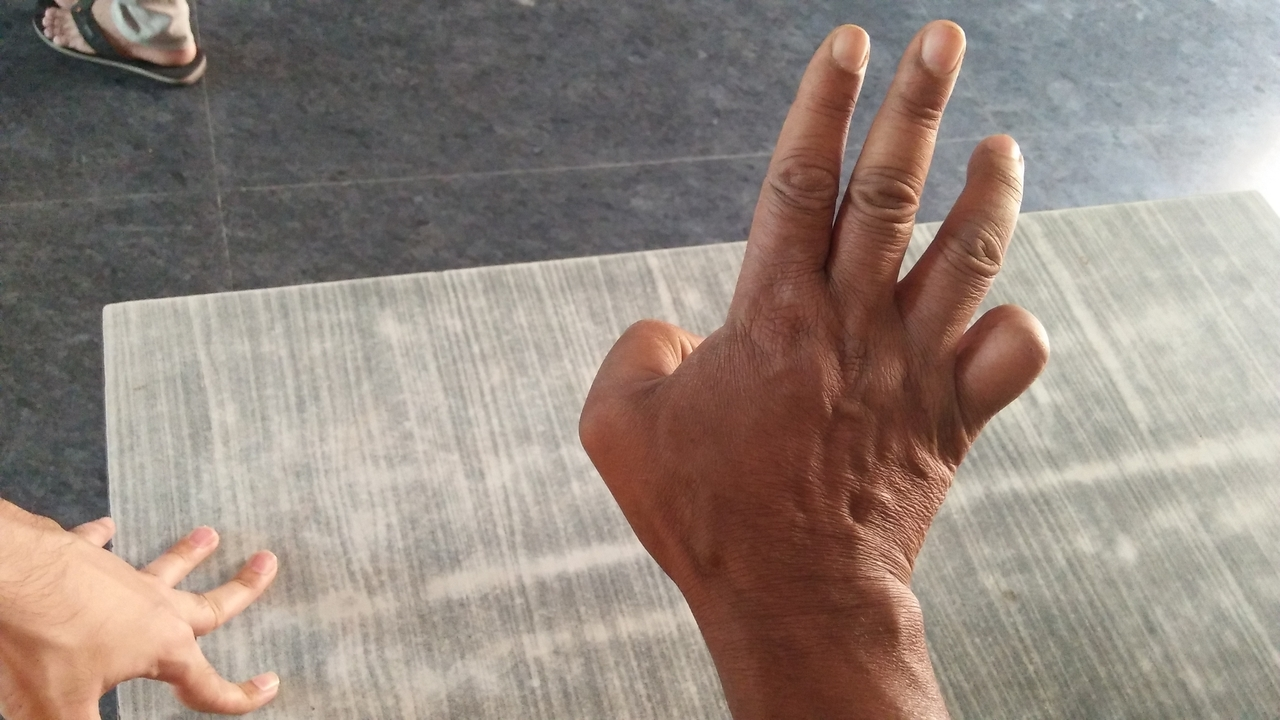fingertip: (910, 12, 978, 74), (814, 18, 878, 76), (966, 128, 1030, 180), (220, 544, 282, 592)
